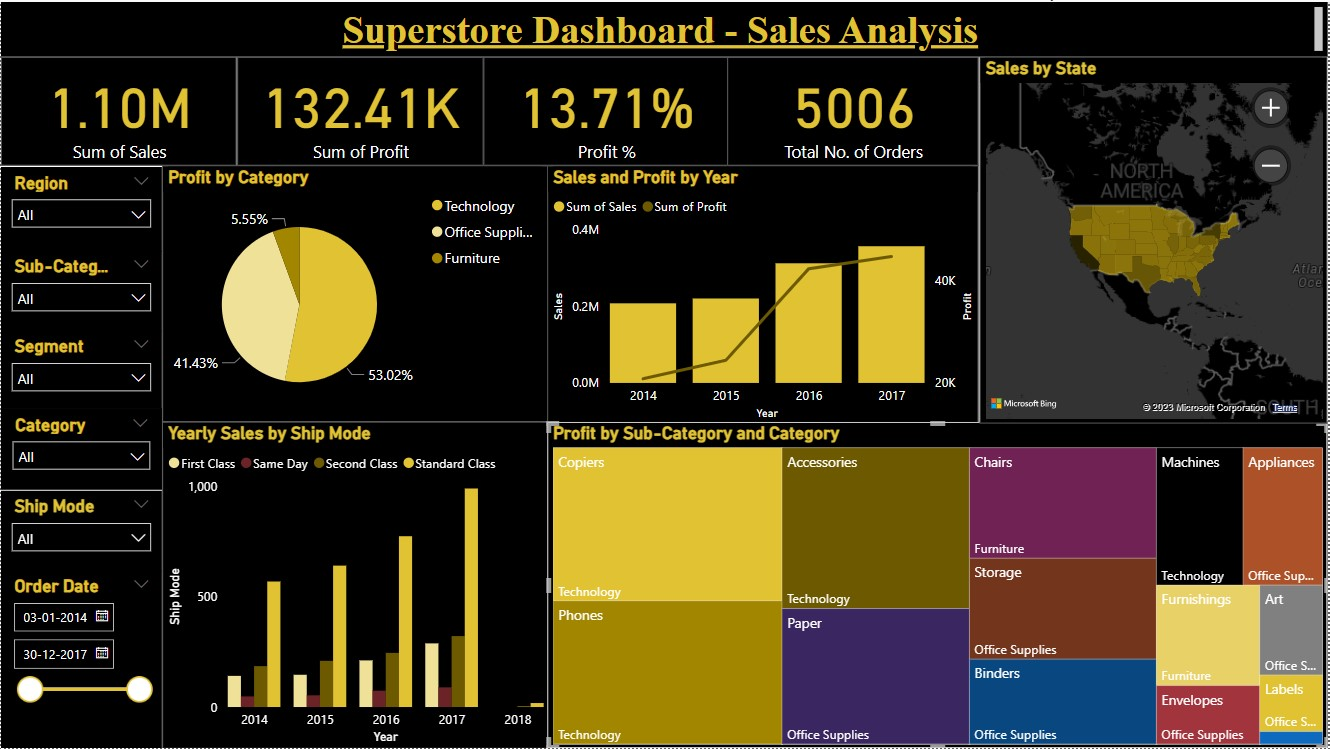

The dashboard page shown, as its layout file describes it:
{"tool":"powerbi","page":{"name":"Overview 2","canvas":[1280,720],"ordinal":1},"visuals":[{"type":"textbox","box":[0,0,1280.2,52.8],"z":0},{"type":"card","fields":{"Values":["Sum(Sample - Superstore.Sales)"]},"box":[0,52.5,227.5,105],"z":1000},{"type":"card","fields":{"Values":["Sum(Sample - Superstore.Profit)"]},"box":[227.5,52.5,237.5,105],"z":2000},{"type":"slicer","fields":{"Values":["Sample - Superstore.Region"]},"box":[0,158.8,155,81.2],"z":3000},{"type":"slicer","fields":{"Values":["Sample - Superstore.Sub-Category"]},"box":[0,240,155,77.5],"z":4000},{"type":"slicer","fields":{"Values":["Sample - Superstore.Segment"]},"box":[0,317.5,155,75],"z":5000},{"type":"card","fields":{"Values":["Category.Profit %"]},"box":[465,52.5,236.2,105],"z":6000},{"type":"card","fields":{"Values":["Category.Total No. of Orders"]},"box":[701.2,52.5,242.5,105],"z":7000},{"type":"slicer","fields":{"Values":["Sample - Superstore.Order Date"]},"box":[0,548.8,155,171.2],"z":8000},{"type":"pieChart","title":"Profit by Category","fields":{"Category":["Category.Category"],"Y":["Sum(Sample - Superstore.Profit)"]},"box":[155,157.5,372.5,247.5],"z":9000},{"type":"slicer","fields":{"Values":["Category.Category"]},"box":[0,392.5,155,78.8],"z":10000},{"type":"lineClusteredColumnComboChart","title":"Sales  and Profit by Year","fields":{"Y":["Sum(Sample - Superstore.Sales)"],"Category":["Sample - Superstore.Order Date.Variation.Date Hierarchy.Year","Sample - Superstore.Order Date.Variation.Date Hierarchy.Quarter","Sample - Superstore.Order Date.Variation.Date Hierarchy.Month","Sample - Superstore.Order Date.Variation.Date Hierarchy.Day"],"Y2":["Sum(Sample - Superstore.Profit)"]},"box":[527.5,157.5,416.2,248.8],"z":11000},{"type":"clusteredColumnChart","title":"Yearly Sales by Ship Mode","fields":{"Category":["Shipment.Ship Date.Variation.Date Hierarchy.Year","Shipment.Ship Date.Variation.Date Hierarchy.Quarter","Shipment.Ship Date.Variation.Date Hierarchy.Month","Shipment.Ship Date.Variation.Date Hierarchy.Day"],"Series":["Shipment.Ship Mode"],"Y":["CountNonNull(Shipment.Ship Mode)"]},"box":[155,405,372.5,315],"z":12000},{"type":"slicer","fields":{"Values":["Shipment.Ship Mode"]},"box":[0,471.2,155,77.5],"z":13000},{"type":"treemap","title":"Profit by Sub-Category and Category","fields":{"Group":["Category.Sub-Category"],"Values":["Sum(Sample - Superstore.Profit)"],"Details":["Category.Category"]},"box":[527.5,405,752.5,315],"z":14000},{"type":"filledMap","title":"Sales by State","fields":{"Category":["Sample - Superstore.State"]},"box":[944.3,53.1,335.3,353.4],"z":15000}]}

Visuals, with their boxes in screenshot pixels (x1, y1, x2, y2), scaled from the page's 1280x720 canvas onto the 1330x749 screenshot:
textbox: x1=0, y1=0, x2=1329, y2=55
card - Sum(Sample - Superstore.Sales): x1=0, y1=55, x2=236, y2=164
card - Sum(Sample - Superstore.Profit): x1=236, y1=55, x2=483, y2=164
slicer - Sample - Superstore.Region: x1=0, y1=165, x2=161, y2=250
slicer - Sample - Superstore.Sub-Category: x1=0, y1=250, x2=161, y2=330
slicer - Sample - Superstore.Segment: x1=0, y1=330, x2=161, y2=408
card - Category.Profit %: x1=483, y1=55, x2=729, y2=164
card - Category.Total No. of Orders: x1=729, y1=55, x2=981, y2=164
slicer - Sample - Superstore.Order Date: x1=0, y1=571, x2=161, y2=748
"Profit by Category" pieChart: x1=161, y1=164, x2=548, y2=421
slicer - Category.Category: x1=0, y1=408, x2=161, y2=490
"Sales  and Profit by Year" lineClusteredColumnComboChart: x1=548, y1=164, x2=981, y2=423
"Yearly Sales by Ship Mode" clusteredColumnChart: x1=161, y1=421, x2=548, y2=748
slicer - Shipment.Ship Mode: x1=0, y1=490, x2=161, y2=571
"Profit by Sub-Category and Category" treemap: x1=548, y1=421, x2=1329, y2=748
"Sales by State" filledMap: x1=981, y1=55, x2=1329, y2=423
